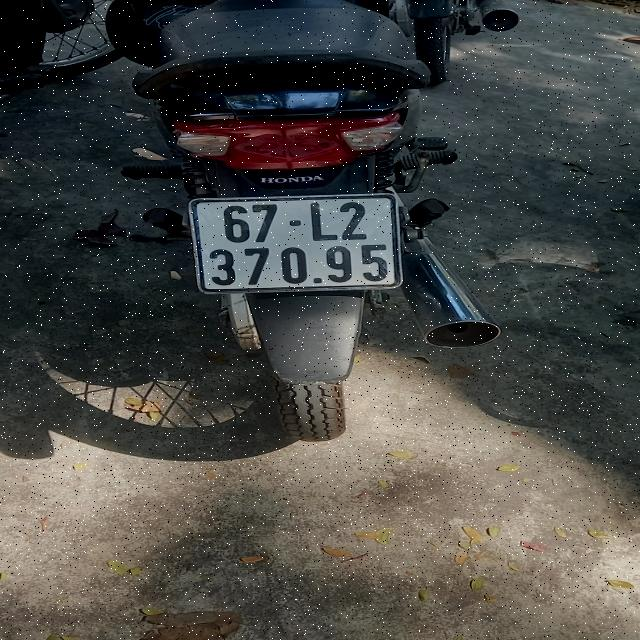0: (279, 244, 314, 286)
2: (338, 201, 371, 241)
3: (205, 246, 238, 290)
5: (361, 243, 392, 283)
6: (223, 205, 252, 244)
7: (251, 204, 281, 245), (242, 246, 272, 287)
9: (322, 244, 354, 284)
L: (308, 202, 340, 242)
